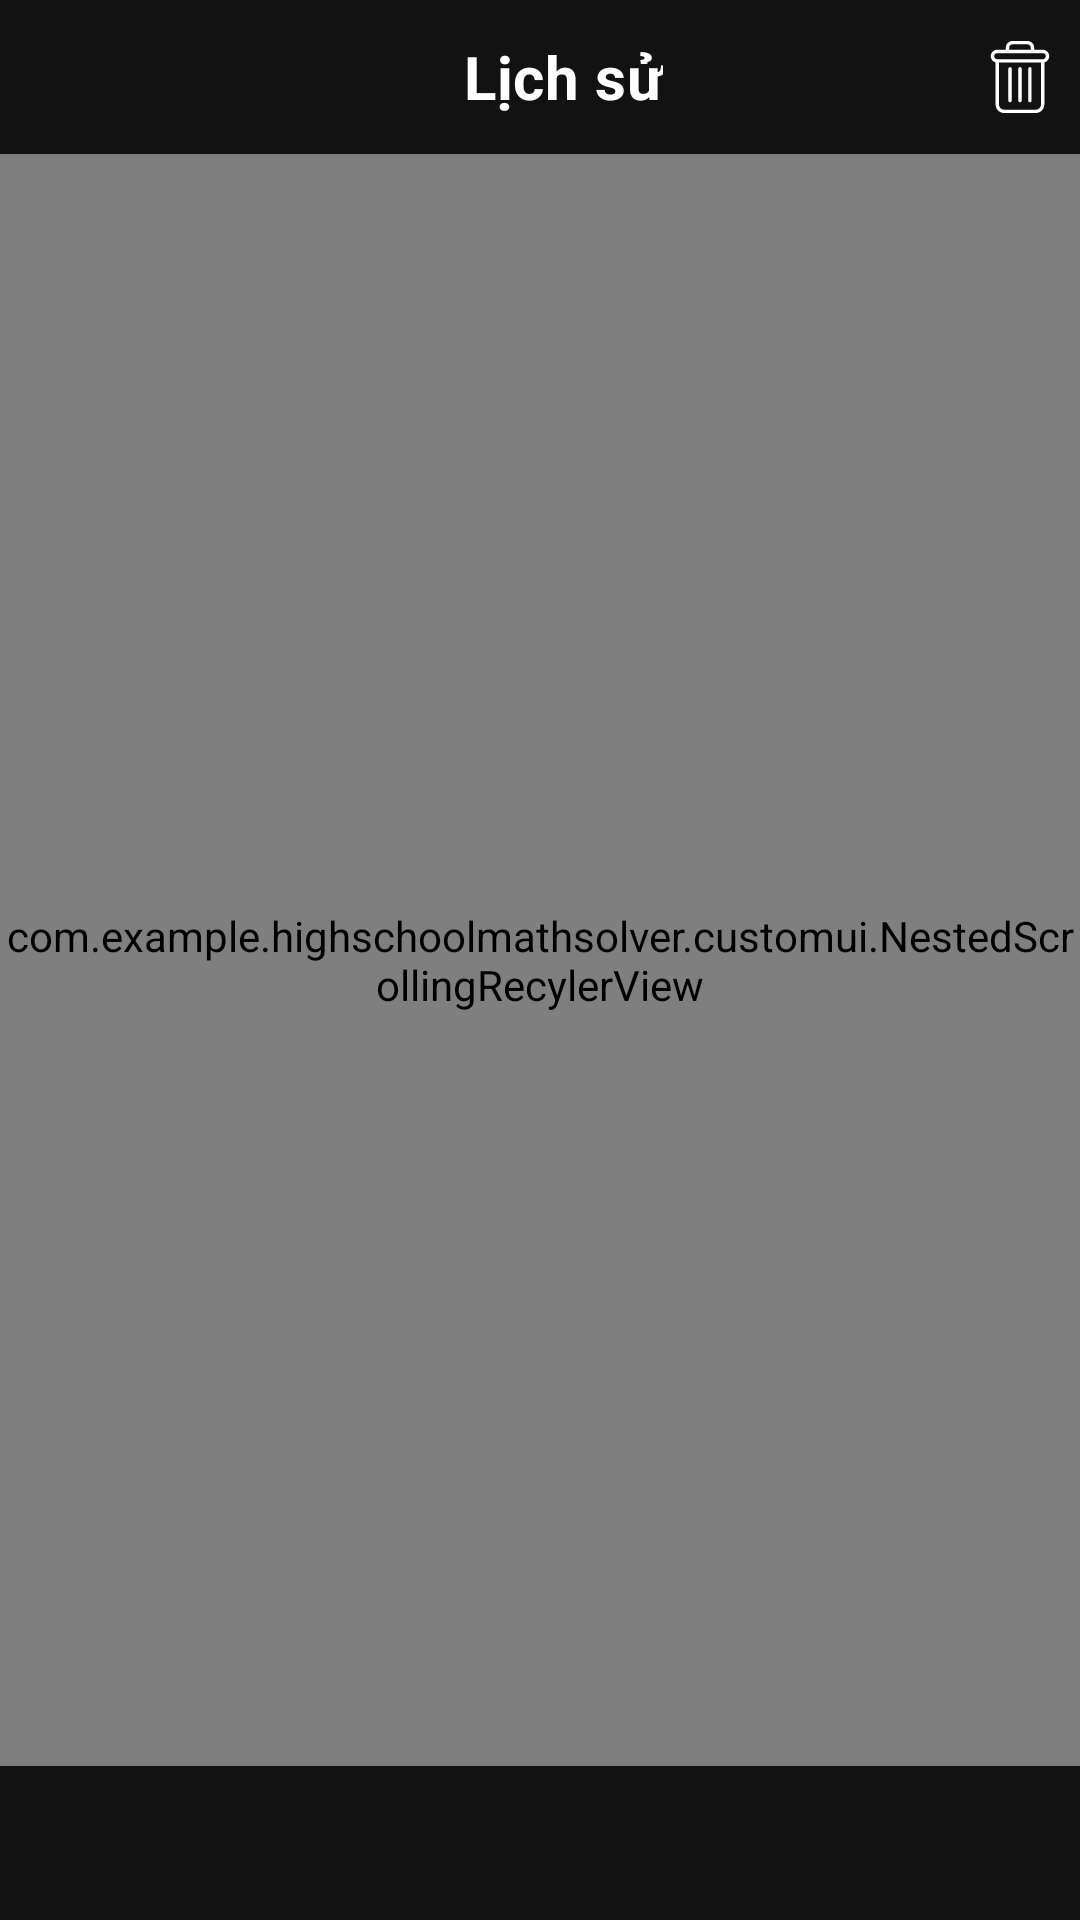

Named icons in this screenshot (1080×1920) and their centers, (x,y):
delete: (1020,77)
